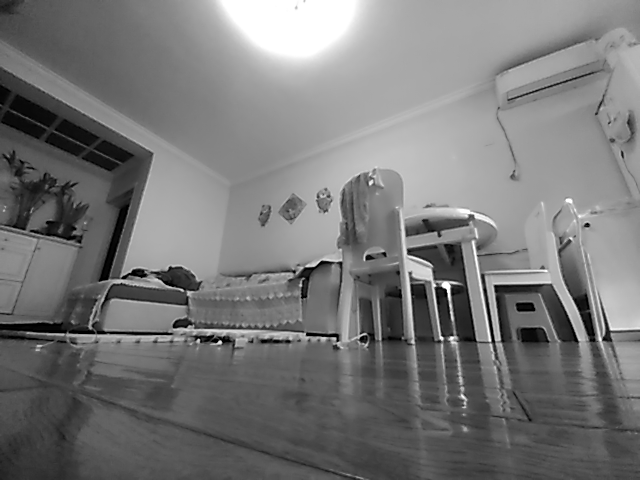carpet: (1, 328, 340, 350)
